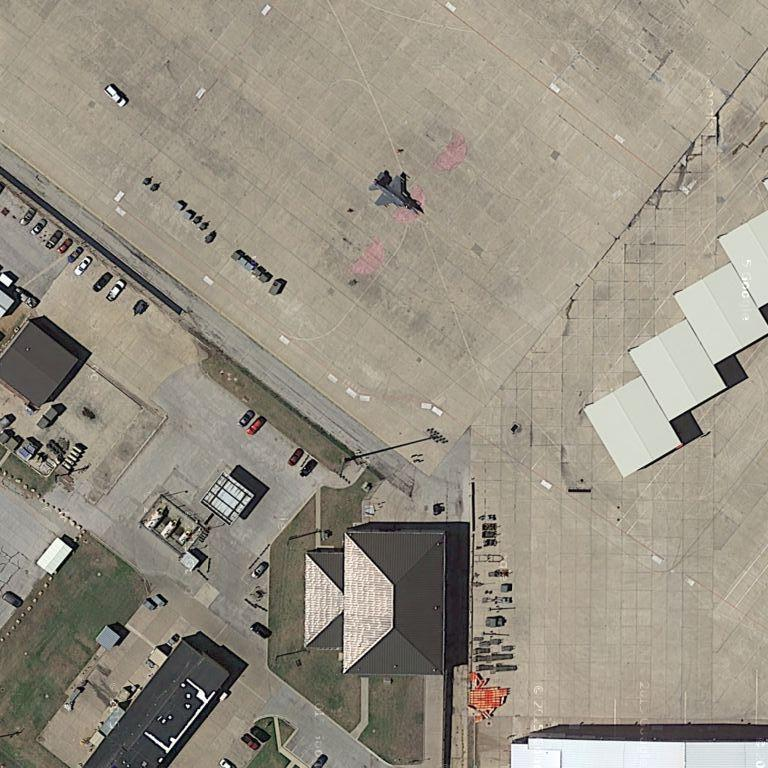F-16: (364, 168, 427, 216)
